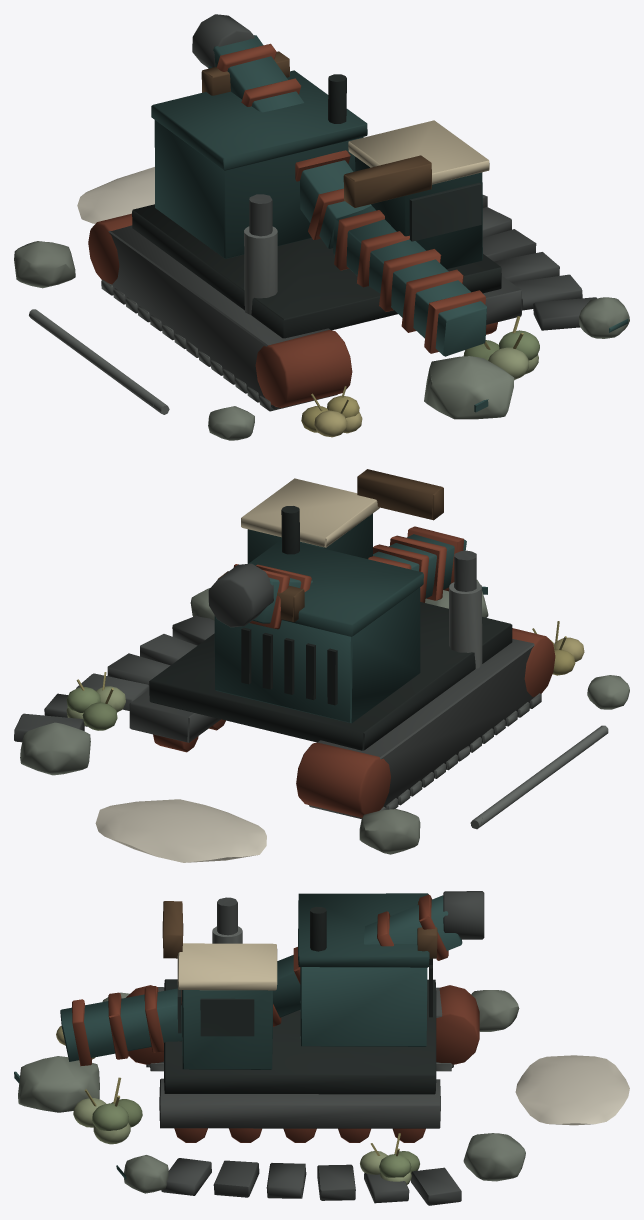
Rendered from drill_rig_wreck_b_lod1.glb.
The picture shows the model from 3 angles, top to bottom: view 1: azimuth 30°, elevation 25°; view 2: azimuth 150°, elevation 25°; view 3: azimuth 270°, elevation 25°; orthographic projection. The views are drawn at different scales.
Visible parts, largest first — view 1: Surface.001; view 2: Surface.001; view 3: Surface.001.
Boxes of the visible parts, box(x1,y1,x2,y2) form: Surface.001: box(14, 14, 629, 440); Surface.001: box(14, 469, 629, 862); Surface.001: box(14, 891, 629, 1205).
Size of the model in its own units: 10.53 by 5.16 by 13.56.
